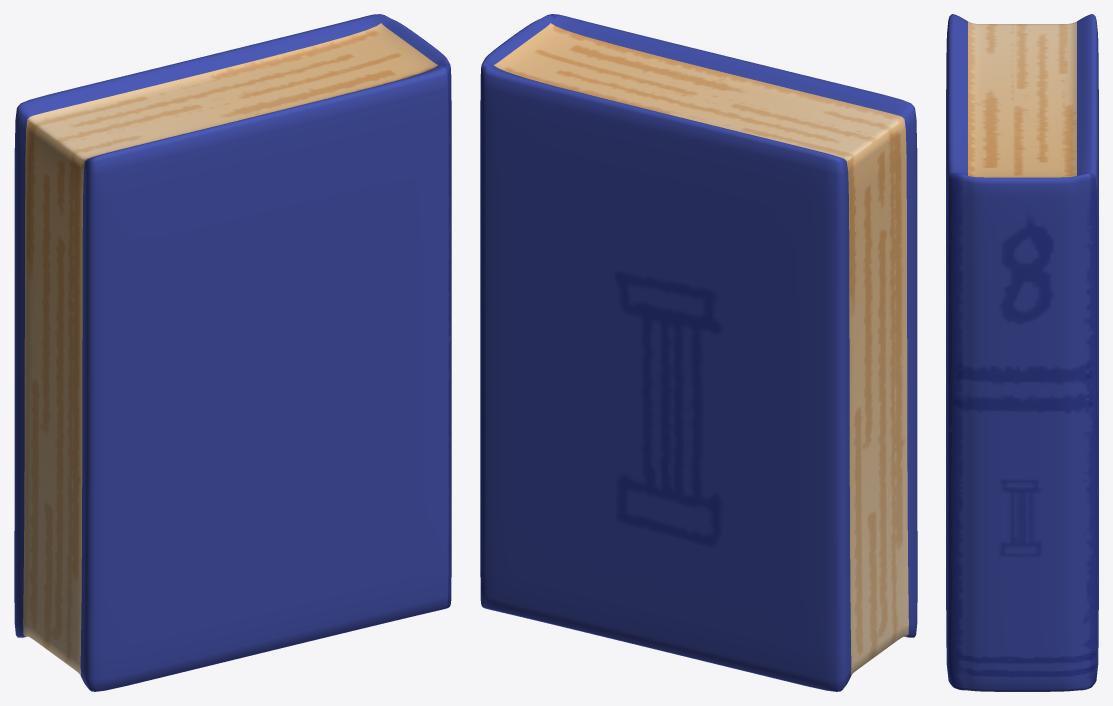
File: level08.fbx
3 renders of one model, left to right at view 1: azimuth 30°, elevation 25°; view 2: azimuth 150°, elevation 25°; view 3: azimuth 270°, elevation 25°, orthographic. The views are drawn at different scales.
Visible parts, largest first — view 1: Cube; view 2: Cube; view 3: Cube.
Boxes of the visible parts, x1=… form: Cube: x1=14, y1=14, x2=451, y2=691; Cube: x1=480, y1=14, x2=917, y2=691; Cube: x1=946, y1=14, x2=1098, y2=691.
Bounding box in the file's own units: 7.54 × 20.27 × 28.04.
